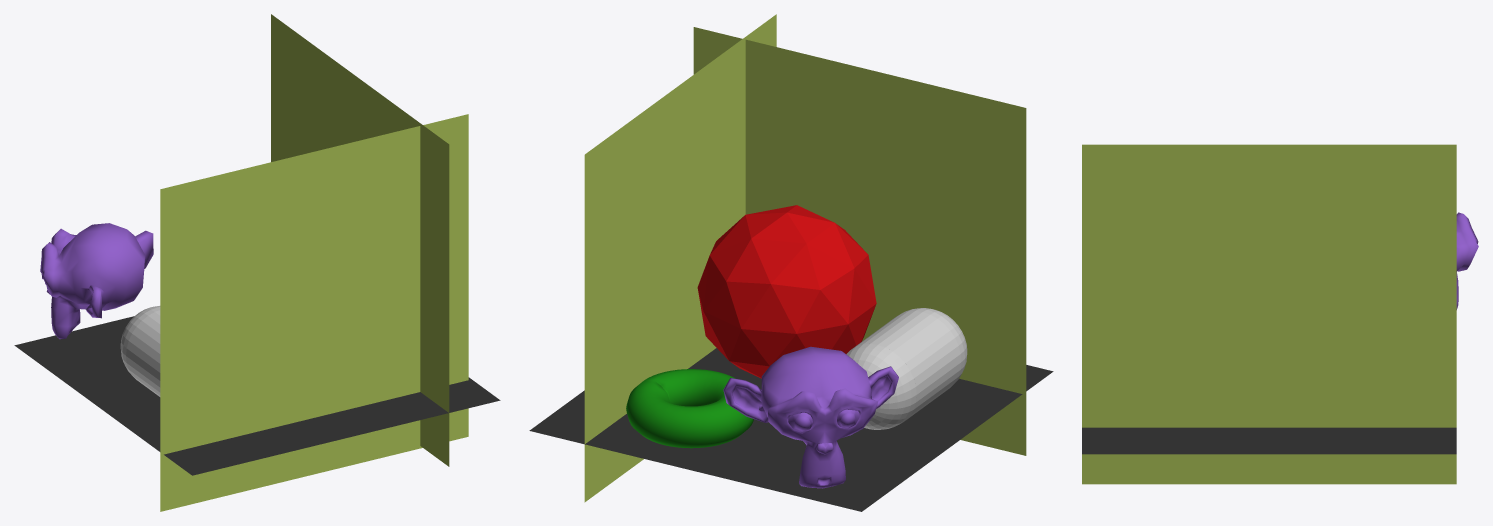
The model's file is robin-green-sh-scene2.obj.
3 renders of one model, left to right at view 1: azimuth 30°, elevation 25°; view 2: azimuth 150°, elevation 25°; view 3: azimuth 270°, elevation 25°, orthographic. The views are drawn at different scales.
Visible parts, largest first — view 1: wall_back, wall_right, floor, Suzanne, Sphere.003; view 2: wall_back, wall_right, Icosphere, floor, Suzanne, Sphere.003, Torus; view 3: wall_right, floor, Suzanne.
Part boxes in pixels (x1=…): wall_back: x1=160, y1=114, x2=468, y2=511; wall_right: x1=271, y1=14, x2=449, y2=466; floor: x1=14, y1=316, x2=500, y2=475; Suzanne: x1=40, y1=223, x2=153, y2=339; Sphere.003: x1=120, y1=306, x2=160, y2=396; wall_back: x1=693, y1=27, x2=1026, y2=455; wall_right: x1=584, y1=14, x2=776, y2=502; Icosphere: x1=697, y1=205, x2=876, y2=378; floor: x1=529, y1=348, x2=1053, y2=511; Suzanne: x1=723, y1=346, x2=898, y2=488; Sphere.003: x1=846, y1=308, x2=967, y2=429; Torus: x1=626, y1=369, x2=753, y2=448; wall_right: x1=1082, y1=144, x2=1456, y2=484; floor: x1=1082, y1=427, x2=1456, y2=454; Suzanne: x1=1456, y1=212, x2=1478, y2=309.
Bounding box in the file's own units: 4.55 × 4.54 × 4.77.
